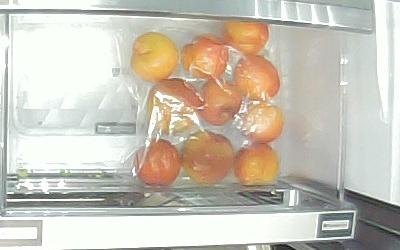prune_vinyl: (147, 78, 202, 136), (181, 131, 235, 185), (130, 31, 180, 83), (133, 138, 183, 188), (180, 33, 230, 81), (233, 53, 281, 102), (234, 142, 282, 186), (198, 79, 242, 126), (237, 102, 285, 145), (223, 20, 269, 56)
